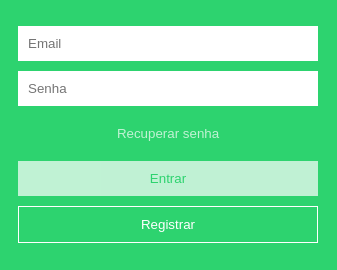
Test: Login › given user clicks on login button › when fail › then show error message
This screenshot has width=337, height=270.
Type "valid@email.com" into the field with test id "email". click: (168,43)
box: [18,26,318,60]
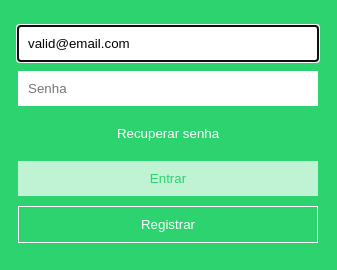
Type "anyValue" into the password field with test id "password". click: (168,88)
box: [18,70,318,106]
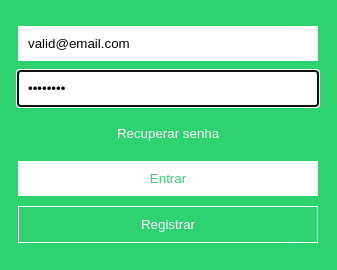
Click the button with test id "login-button". click: (168,178)
box: [18,160,318,196]
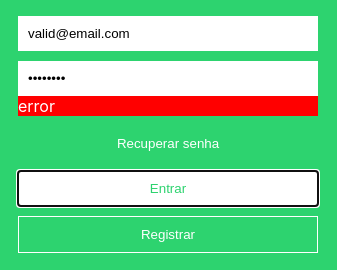
Expected: the text "error" is shown, [18,96,318,116]
